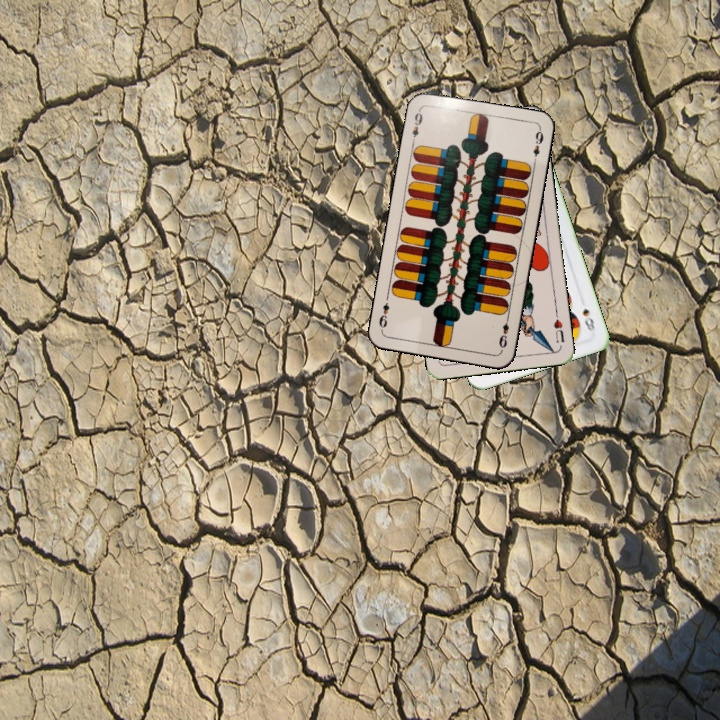E9: (408, 106, 425, 146), (495, 312, 512, 351)
HU: (550, 308, 567, 345)
S8: (578, 304, 598, 333)
